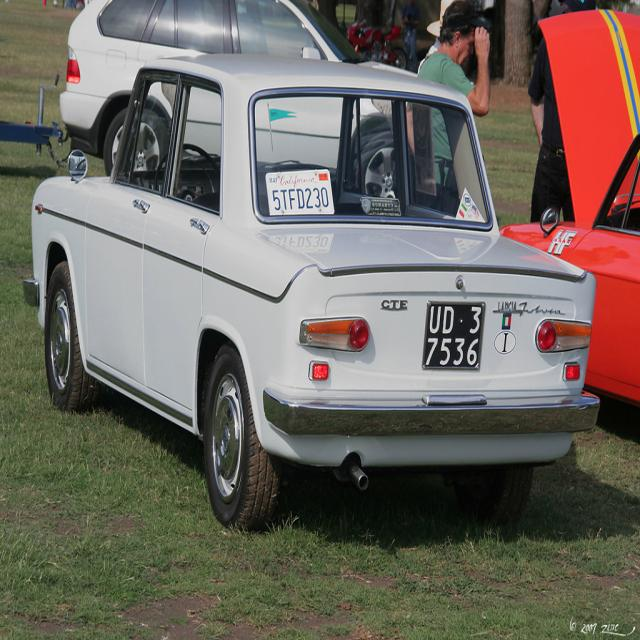car: (31, 0, 595, 534)
